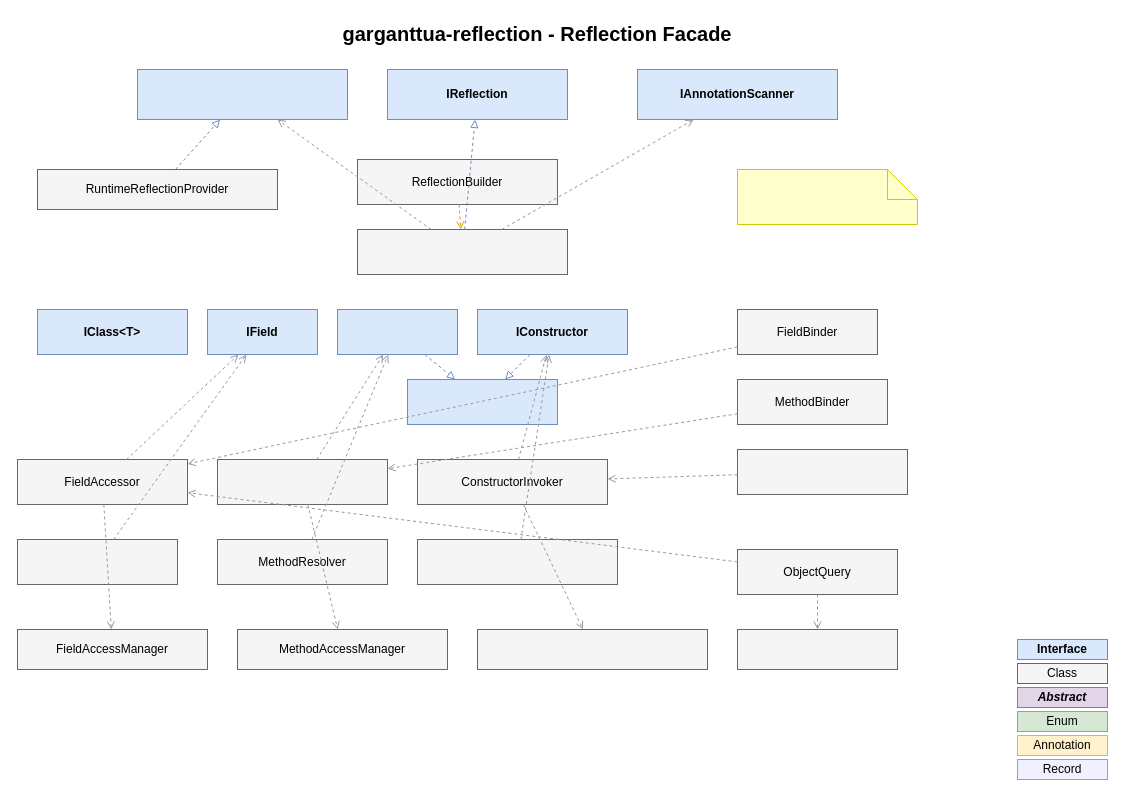
Some shapes in this 1125 by 797 pixel diagram are drawn without their labels. Here are the shapes that lost their labels. From the top down, the centre of each, then its label:
At pixel 242 94: "IReflectionProvider".
At pixel 827 196: "force=true parameter enables private access on all access managers".
At pixel 462 251: "CompositeReflection".
At pixel 397 331: "IMethod".
At pixel 482 401: "IExecutable".
At pixel 302 481: "MethodInvoker".
At pixel 822 471: "ConstructorBinder".
At pixel 97 561: "FieldResolver".
At pixel 517 561: "ConstructorResolver".
At pixel 592 649: "ConstructorAccessManager".
At pixel 817 649: "ObjectAddress".
